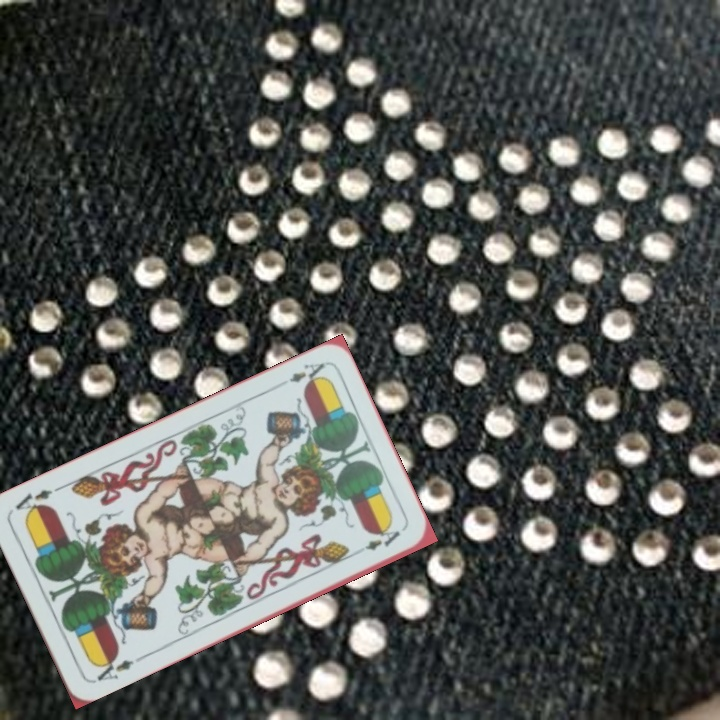EA: (89, 650, 137, 686), (285, 358, 327, 389)
